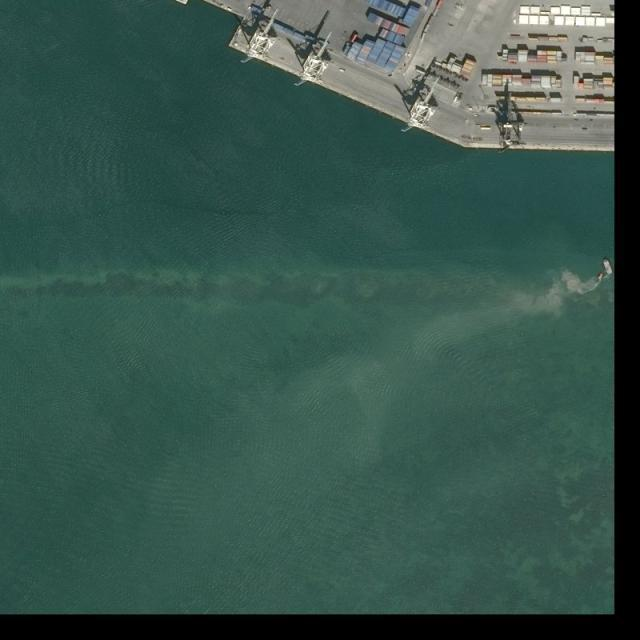ship: (601, 258, 613, 275), (597, 273, 605, 282)
